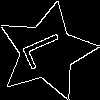L: (21, 27, 75, 71)
